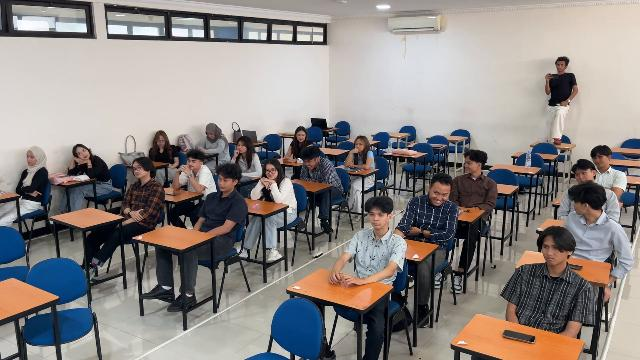senang: (541, 239, 565, 264), (432, 183, 448, 205), (368, 210, 385, 228), (217, 174, 232, 191), (463, 158, 477, 173), (574, 170, 590, 183), (591, 154, 607, 167), (133, 162, 146, 177), (266, 164, 278, 179), (77, 147, 90, 160), (187, 157, 199, 170), (27, 151, 37, 166), (156, 135, 166, 149), (237, 141, 247, 153), (303, 159, 315, 169), (355, 139, 366, 149), (297, 131, 306, 141)
